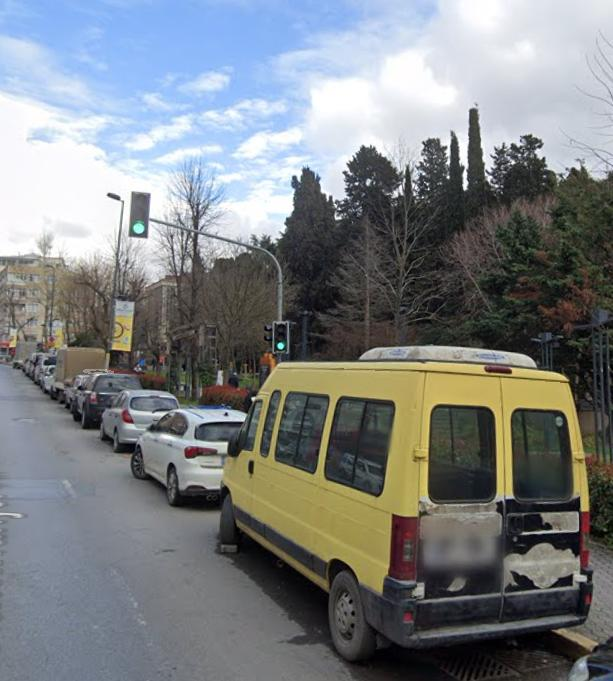greenlight: (129, 192, 149, 239), (274, 321, 288, 355)
